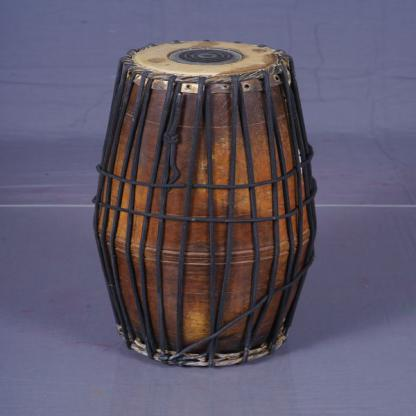Mridangam: (81, 32, 341, 392)
